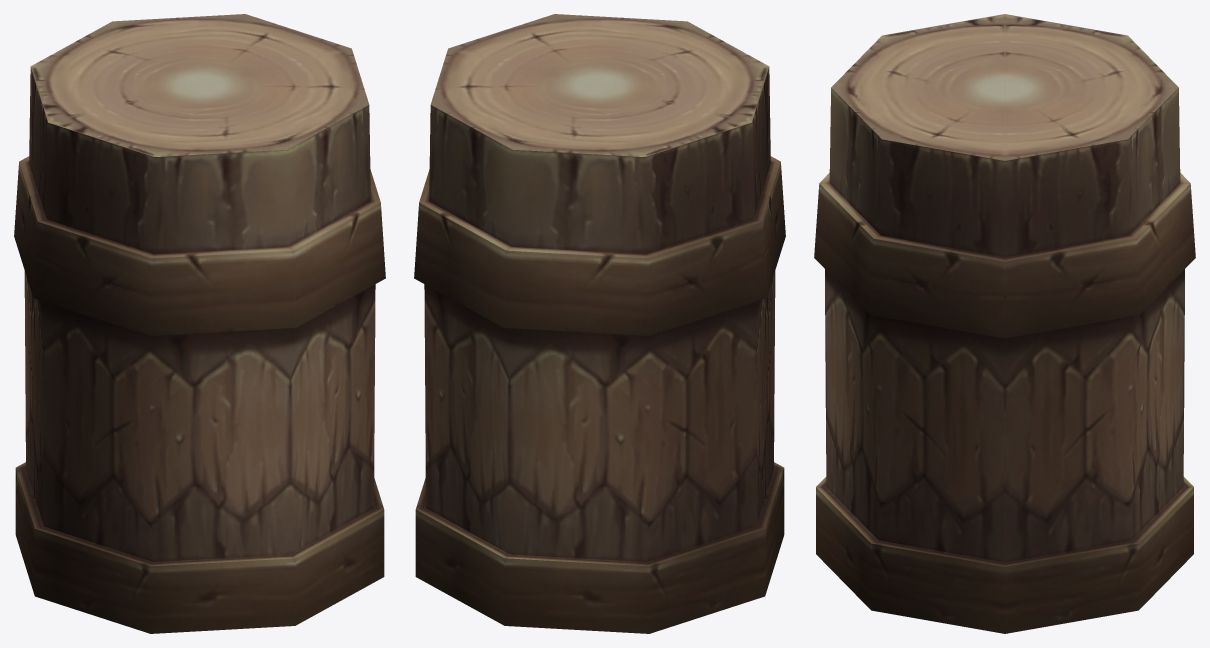
File: Lty_zhuzi01.FBX
3 views of the same model, side by side, from view 1: azimuth 30°, elevation 25°; view 2: azimuth 150°, elevation 25°; view 3: azimuth 270°, elevation 25° (orthographic).
Visible parts, largest first — view 1: Lty_zhuzi01; view 2: Lty_zhuzi01; view 3: Lty_zhuzi01.
Boxes of the visible parts, box(x1,y1,x2,y2) form: Lty_zhuzi01: box(14, 14, 385, 633); Lty_zhuzi01: box(414, 14, 785, 633); Lty_zhuzi01: box(814, 14, 1195, 633).
Bounding box in the file's own units: 36.91 × 36.91 × 49.79.
